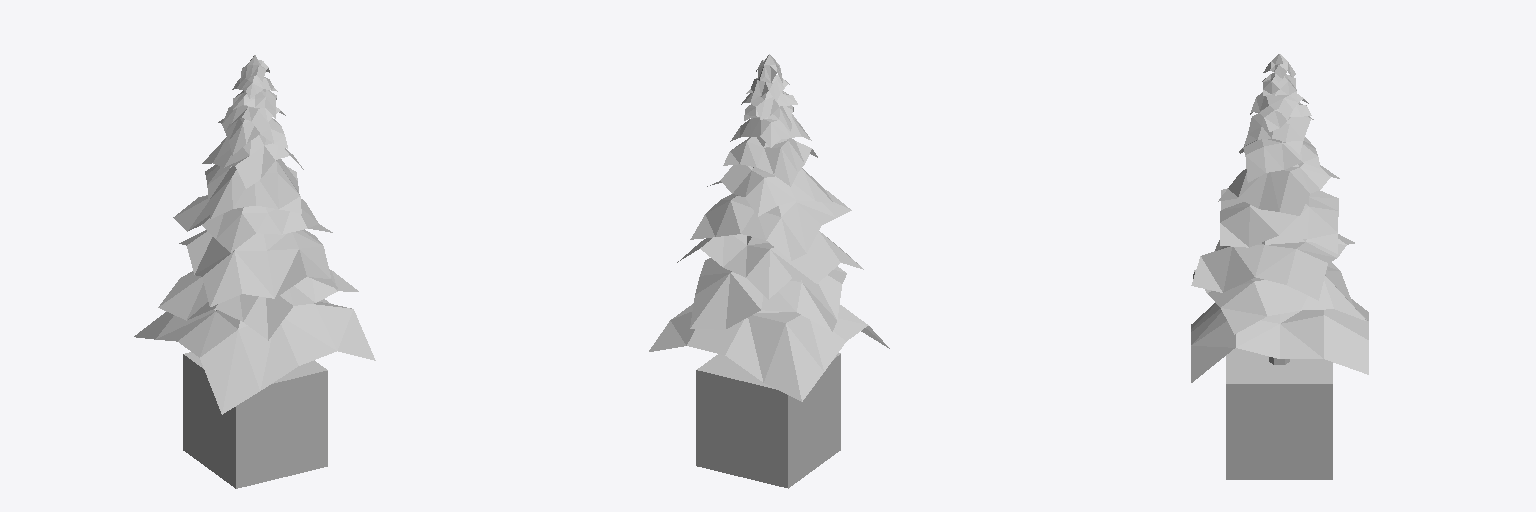
The model's file is pineRe.obj.
The picture shows the model from 3 angles: view 1: azimuth 30°, elevation 25°; view 2: azimuth 150°, elevation 25°; view 3: azimuth 270°, elevation 25°; orthographic projection.
Parts seen in each view (by area): view 1: Grid, Cube; view 2: Grid, Cube; view 3: Grid, Cube.
Part boxes in pixels (x1,y1,x2,y2): Grid: (134,55,375,414); Cube: (183,352,327,488); Grid: (649,54,889,401); Cube: (696,353,840,488); Grid: (1191,54,1368,382); Cube: (1226,348,1332,479).
Bounding box in the file's own units: 3.53 × 8.4 × 3.35.